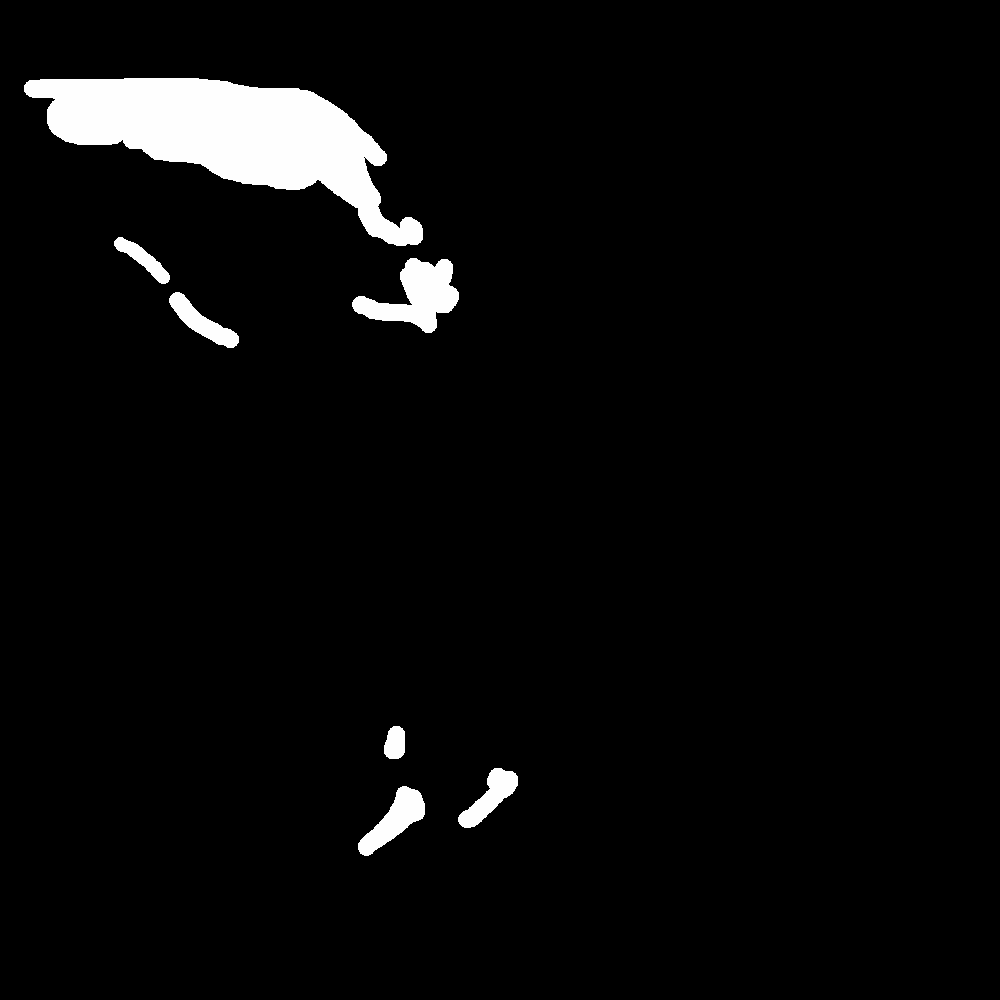illegal: (31, 82, 409, 241), (376, 250, 479, 330), (366, 783, 414, 855), (470, 764, 510, 821), (566, 574, 596, 624), (389, 730, 408, 762)
